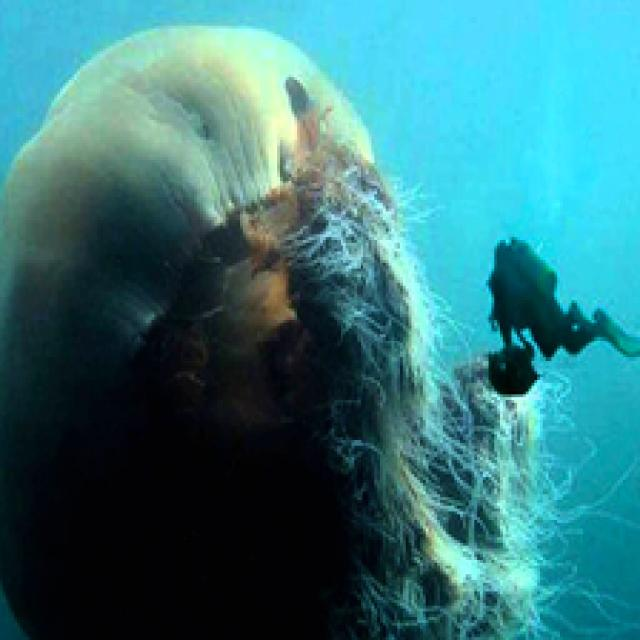Moon-jellyfish: (0, 20, 589, 637)
